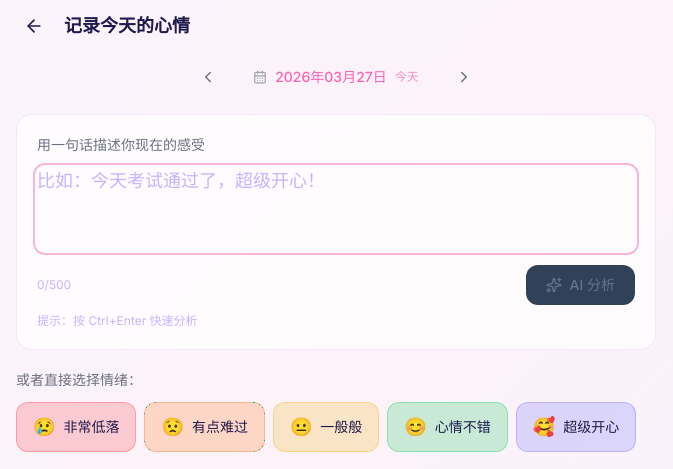
RecordPage › should enable analyze button when textarea has text
Type "今天很开心" into the text box labelled "用一句话描述你现在的感受" at [336, 209], box [37,167,635,251]
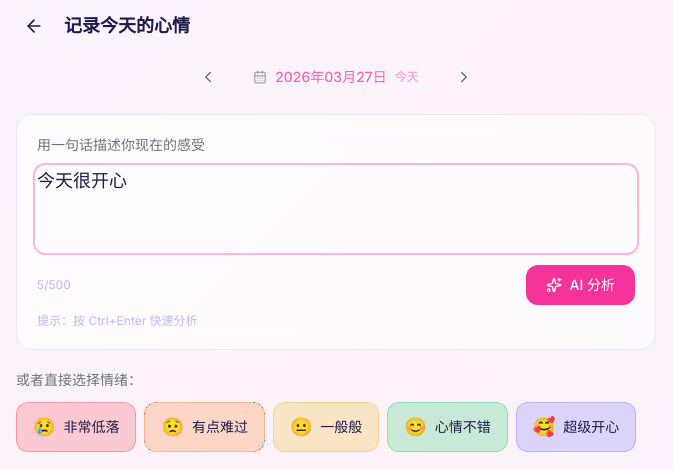
Result: the button with aria-label "AI 分析情绪" is enabled at [526,265,635,305]
